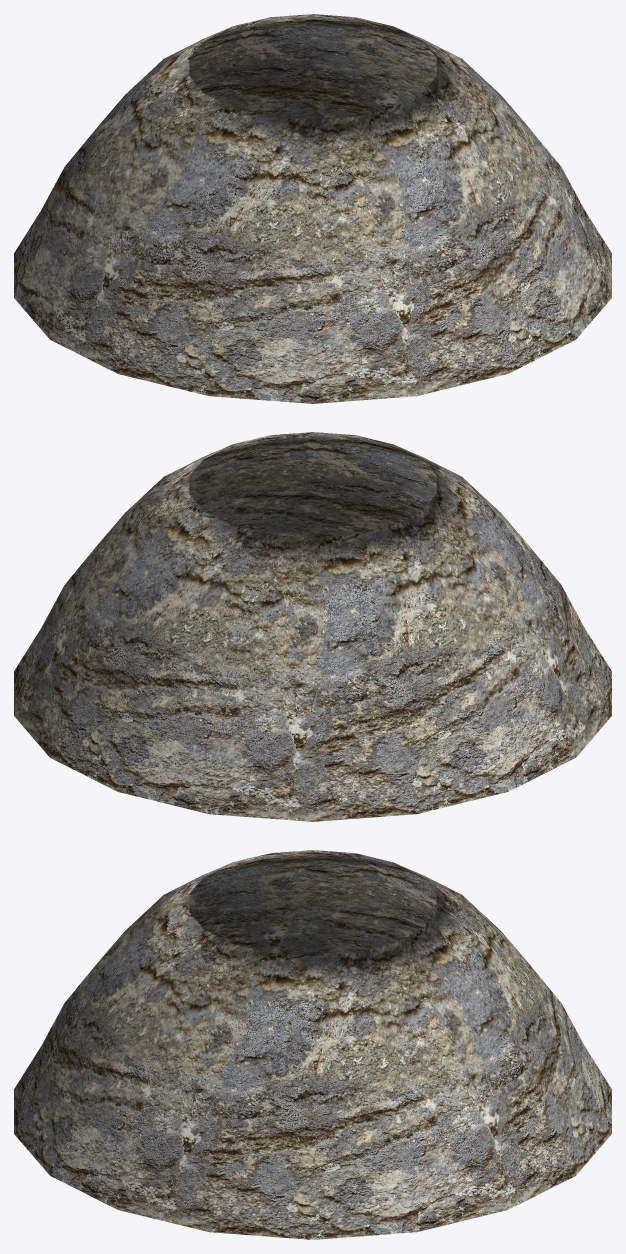
The model's file is Cave.FBX.
3 renders of one model, top to bottom at view 1: azimuth 30°, elevation 25°; view 2: azimuth 150°, elevation 25°; view 3: azimuth 270°, elevation 25°, orthographic.
Visible parts, largest first — view 1: Cylinder001; view 2: Cylinder001; view 3: Cylinder001.
Boxes of the visible parts, bbox=[...] form: Cylinder001: bbox=[14, 14, 611, 403]; Cylinder001: bbox=[14, 432, 611, 821]; Cylinder001: bbox=[14, 850, 611, 1239].
Bounding box in the file's own units: 591 × 224 × 582.
1 material, 1 textured.
